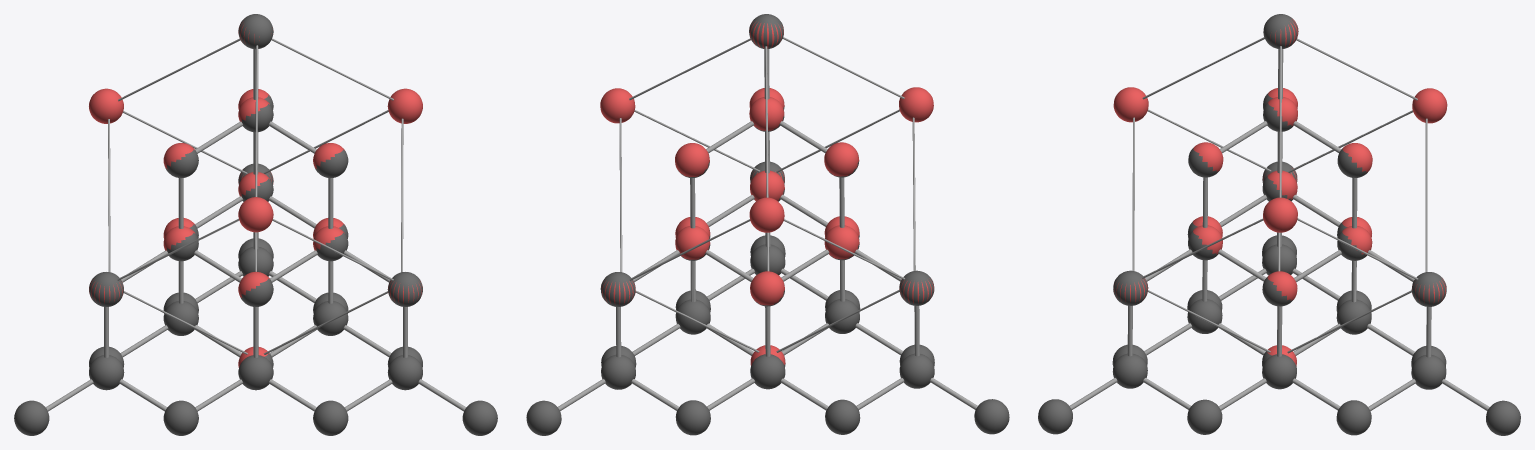
File: index.gltf
3 views of the same model, side by side, from view 1: azimuth 30°, elevation 25°; view 2: azimuth 150°, elevation 25°; view 3: azimuth 270°, elevation 25° (orthographic).
Visible parts, largest first — view 1: jingge1_one, jingbao, jingge2_two; view 2: jingbao, jingge1_one, jingge2_two; view 3: jingge2_two, jingbao, jingge1_one.
Boxes of the visible parts, bbox=[...] form: jingge1_one: bbox=[14, 14, 494, 435]; jingbao: bbox=[89, 21, 422, 367]; jingge2_two: bbox=[21, 232, 497, 432]; jingbao: bbox=[600, 21, 933, 365]; jingge1_one: bbox=[537, 14, 1009, 435]; jingge2_two: bbox=[526, 232, 996, 435]; jingge2_two: bbox=[1039, 232, 1520, 435]; jingbao: bbox=[1113, 19, 1447, 366]; jingge1_one: bbox=[1038, 14, 1506, 427].
Bounding box in the file's own units: 1.01 × 0.8723 × 1.05.
